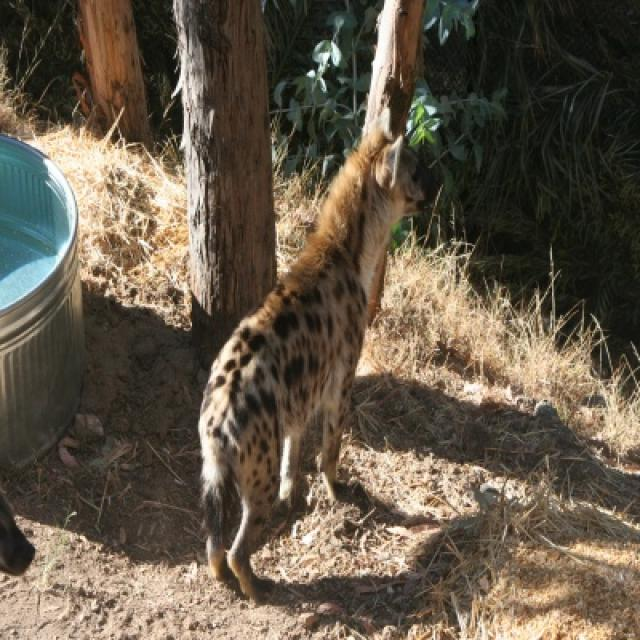hyena: (197, 100, 429, 600)
